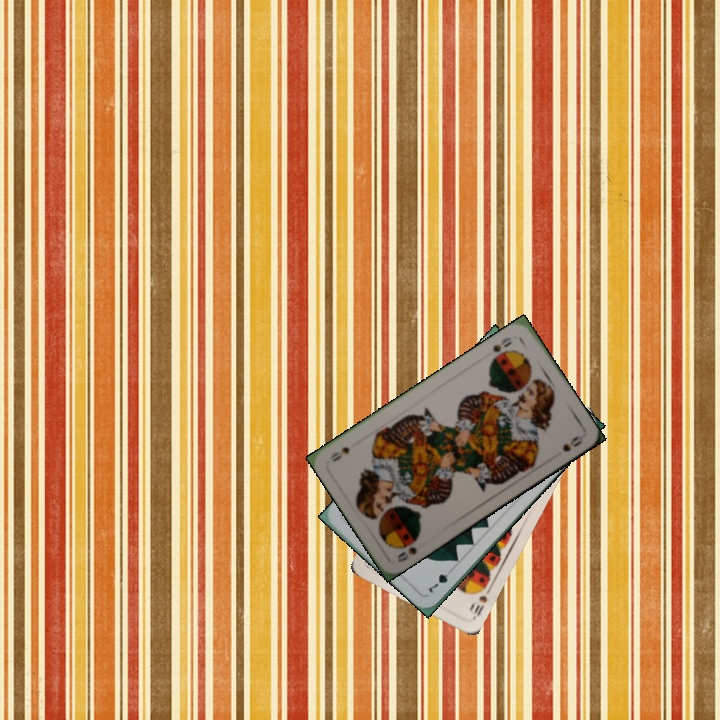G7: (425, 564, 456, 596)
S10: (469, 581, 494, 621)
SO: (393, 532, 423, 565), (489, 333, 514, 355)
